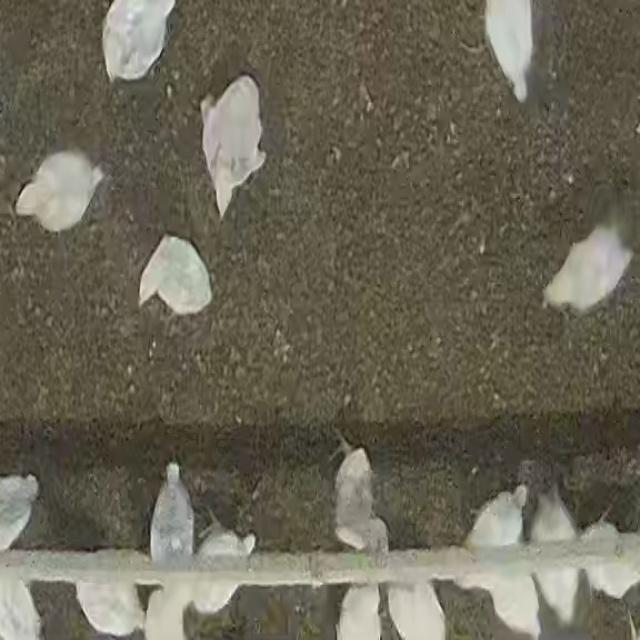chicken: (200, 68, 268, 218), (316, 425, 394, 553), (12, 147, 108, 239), (540, 228, 635, 314), (137, 229, 215, 322)
